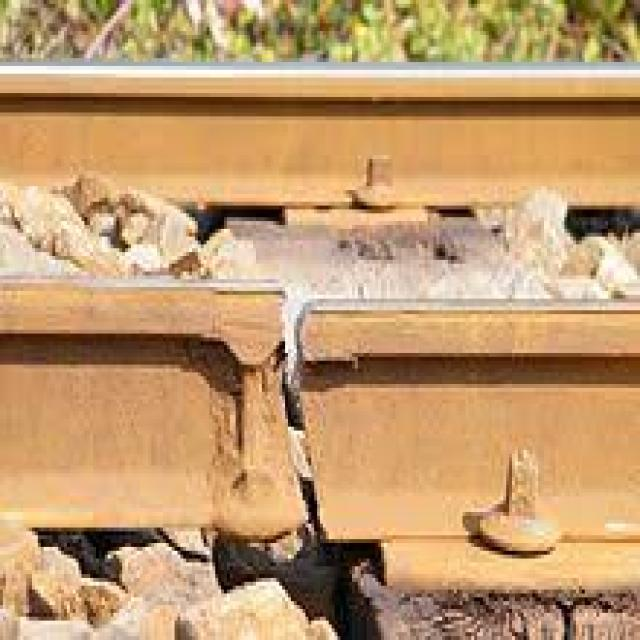fault: (244, 281, 353, 556)
